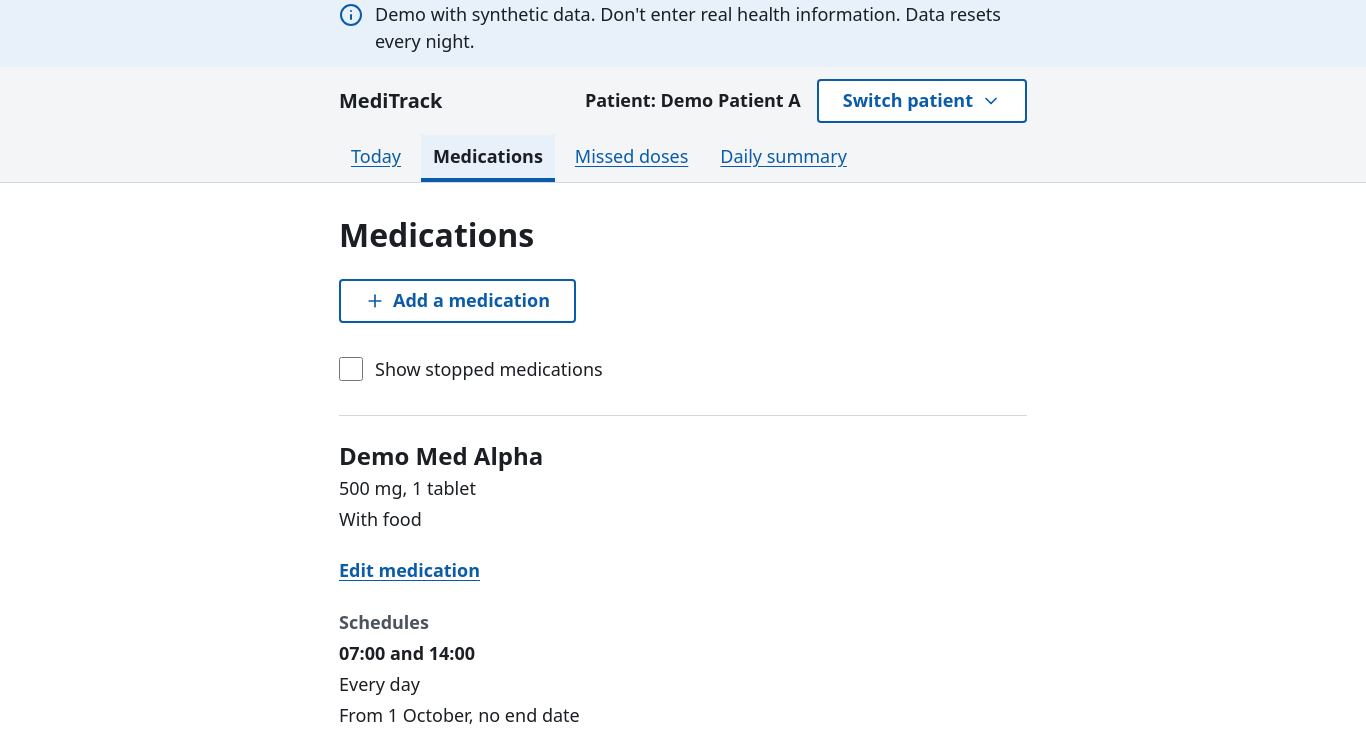
Test: Medications page › shows stopped medications only when asked, with the date they were stopped
Expected: the element "Demo Med Epsilon" is not shown
What coordinates should you click on to do the following:
click the checkbox labelled "Show stopped medications"
I would click on:
 (351, 369)
Its box is [339,357,363,381].
(page scrolled)
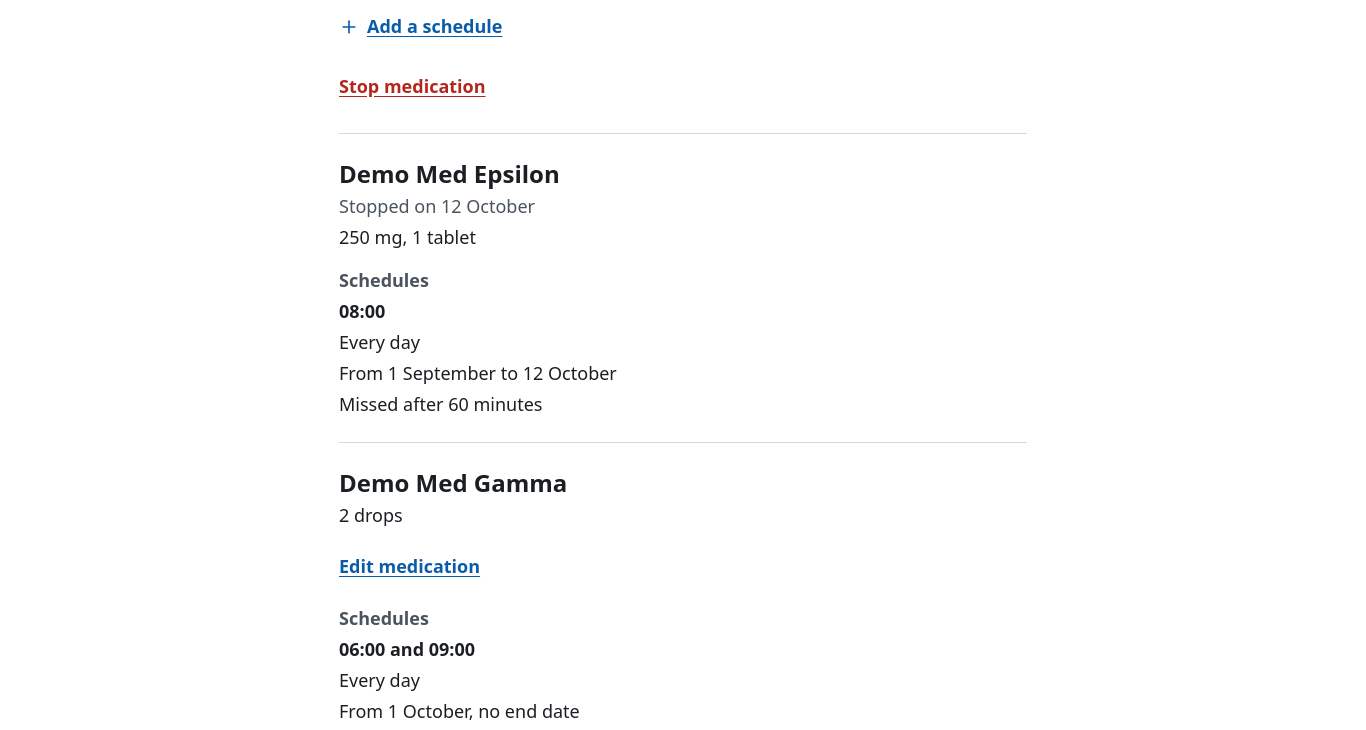
Now the text "From 1 September to 12 October" is shown, box [339,361,617,385]
